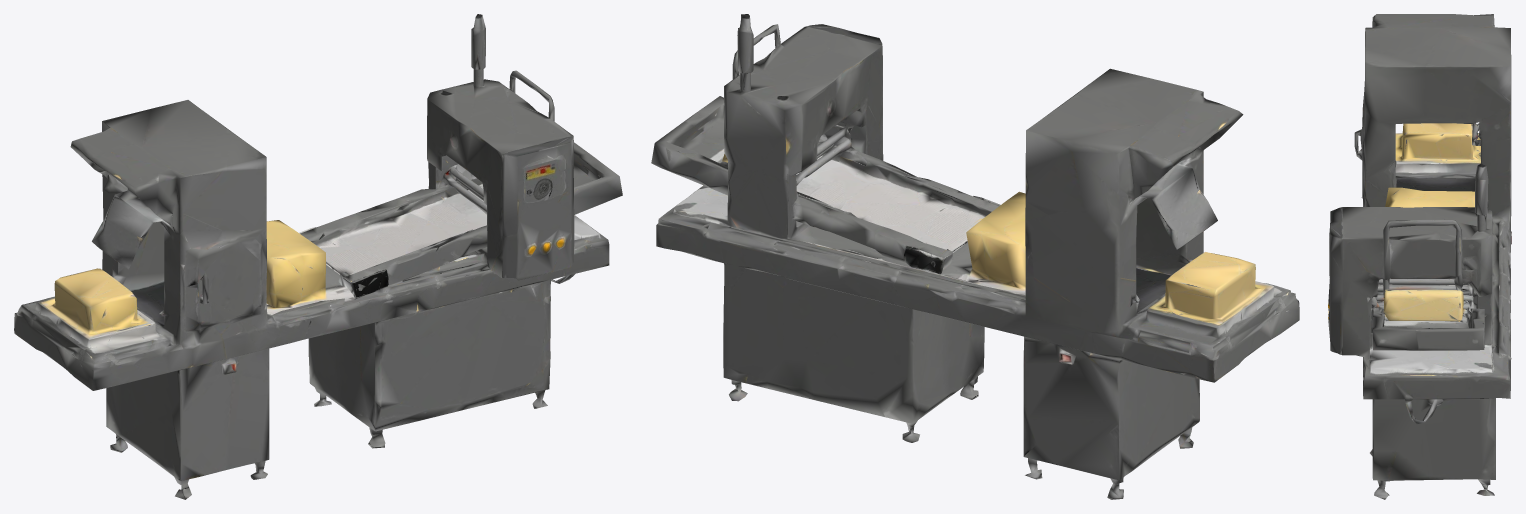
The model's file is cheese-line-lite.glb.
The picture shows the model from 3 angles, left to right: view 1: azimuth 30°, elevation 25°; view 2: azimuth 150°, elevation 25°; view 3: azimuth 270°, elevation 25°; orthographic projection. The views are drawn at different scales.
Size of the model in its own units: 1.9 by 1.2 by 0.6093.
1 material, 1 textured.
